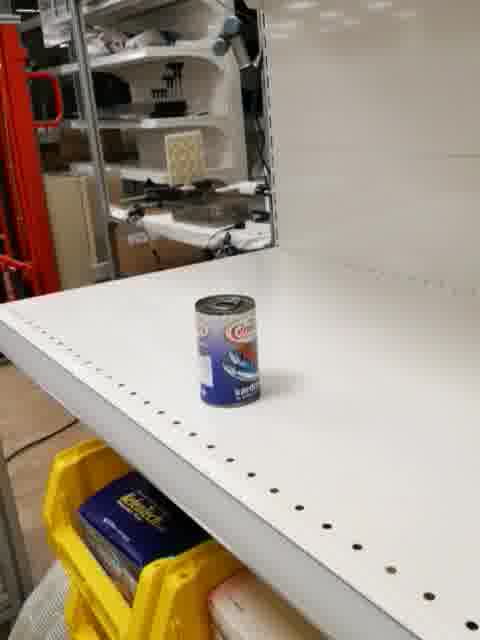sardine: (195, 292, 262, 410)
